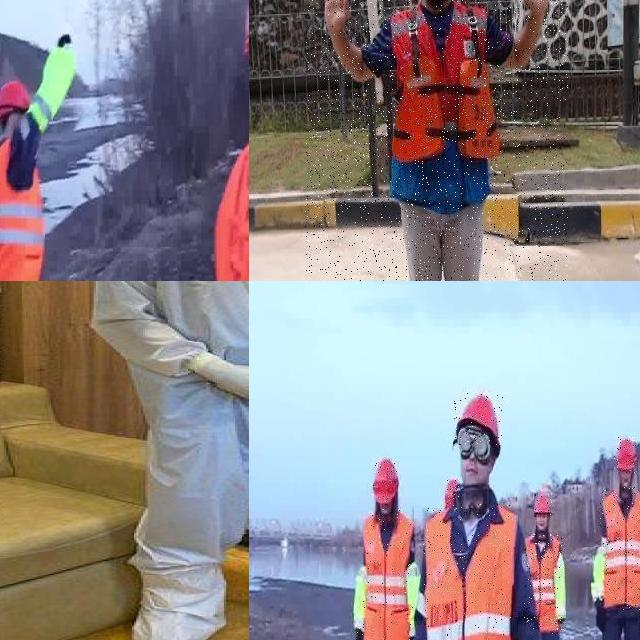Glove: (181, 351, 249, 401)
HELMET: (454, 394, 504, 446), (0, 79, 33, 124), (371, 458, 398, 502), (614, 436, 636, 473), (534, 490, 552, 517), (446, 478, 460, 502)
VEST: (387, 3, 502, 209), (421, 501, 513, 640), (362, 509, 413, 640), (0, 153, 48, 281), (600, 487, 640, 612), (524, 534, 562, 634)
